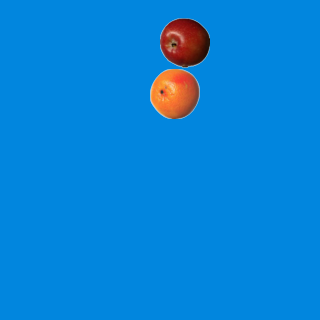Apple Braeburn: (159, 17, 209, 67)
Grapefruit Pink: (149, 68, 199, 118)
